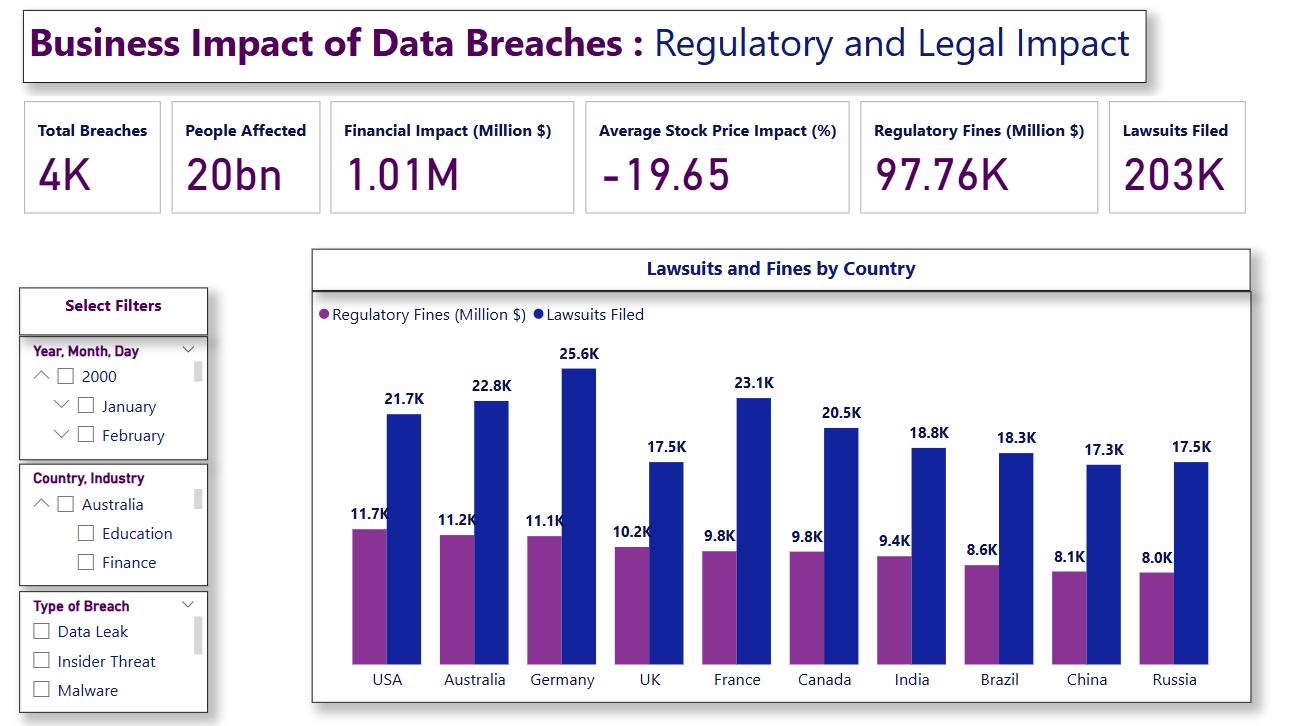

This screenshot's page, from the dashboard's own definition file:
{"tool":"powerbi","page":{"name":"Regulatory & Legal Impact","canvas":[1280,720],"ordinal":3},"visuals":[{"type":"group","id":"g1","title":"Group 1","box":[310,245.4,927.7,448.2],"z":0},{"type":"textbox","box":[310,245.4,927.2,41.9],"z":0,"group":"g1"},{"type":"group","id":"g2","title":"Group 8","box":[20.5,331.9,186.7,371.7],"z":0,"group":"g3"},{"type":"group","id":"g3","title":"Group 9","box":[20.5,284.3,186.7,419.3],"z":1000},{"type":"textbox","box":[20.5,284.3,186.3,47.6],"z":1000,"group":"g3"},{"type":"textbox","box":[25,10.3,1109.4,72],"z":2000},{"type":"clusteredColumnChart","fields":{"Y":["Sum(Sheet1.Regulatory Fines (Million $))","Sum(Sheet1.Lawsuits Filed)"],"Category":["Sheet1.Country"]},"box":[310,287.6,927.7,406],"z":2000,"group":"g1"},{"type":"group","id":"g4","title":"Group 7","box":[20.6,95.5,1216.7,122],"z":3000},{"type":"slicer","fields":{"Values":["Sheet1.Date of Breach.Variation.Date Hierarchy.Year","Sheet1.Date of Breach.Variation.Date Hierarchy.Month","Sheet1.Date of Breach.Variation.Date Hierarchy.Day"]},"box":[20.5,331.9,186.7,122],"z":3000,"group":"g2"},{"type":"slicer","fields":{"Values":["Sheet1.Country","Sheet1.Industry"]},"box":[20.5,457.9,186.4,120.7],"z":4000,"group":"g2"},{"type":"slicer","fields":{"Values":["Sheet1.Type of Breach"]},"box":[20.7,584,186.3,119.7],"z":5000,"group":"g2"},{"type":"cardVisual","fields":{"Data":["Avg(Sheet1.Stock Price Impact (%))"]},"box":[574.6,95.5,271.8,122],"z":6000,"group":"g4"},{"type":"cardVisual","fields":{"Data":["Sheet1.Total Breaches"]},"box":[20.6,95.5,145.5,122],"z":7000,"group":"g4"},{"type":"cardVisual","fields":{"Data":["Sum(Sheet1.Regulatory Fines (Million $))"]},"box":[846.4,95.5,245.4,122],"z":8000,"group":"g4"},{"type":"cardVisual","fields":{"Data":["Sum(Sheet1.Lawsuits Filed)"]},"box":[1091.8,95.5,145.5,122],"z":9000,"group":"g4"},{"type":"cardVisual","fields":{"Data":["Sum(Sheet1.People Affected)"]},"box":[166.1,95.5,157.2,122],"z":10000,"group":"g4"},{"type":"cardVisual","fields":{"Data":["Sum(Sheet1.Financial Impact (Million $))"]},"box":[323.3,95.5,251.3,122],"z":11000,"group":"g4"}]}

Visuals, with their boxes in screenshot pixels (x1, y1, x2, y2), scaled from the page's 1280x720 canvas onto the 1291x726 screenshot:
"Group 1" group: l=313, t=247, r=1248, b=699
textbox: l=313, t=247, r=1248, b=290
"Group 8" group: l=21, t=335, r=209, b=709
"Group 9" group: l=21, t=287, r=209, b=709
textbox: l=21, t=287, r=209, b=335
textbox: l=25, t=10, r=1144, b=83
clusteredColumnChart - Sum(Sheet1.Regulatory Fines (Million $)) x Sum(Sheet1.Lawsuits Filed): l=313, t=290, r=1248, b=699
"Group 7" group: l=21, t=96, r=1248, b=219
slicer - Sheet1.Date of Breach.Variation.Date Hierarchy.Year x Sheet1.Date of Breach.Variation.Date Hierarchy.Month: l=21, t=335, r=209, b=458
slicer - Sheet1.Country x Sheet1.Industry: l=21, t=462, r=209, b=583
slicer - Sheet1.Type of Breach: l=21, t=589, r=209, b=710
cardVisual - Avg(Sheet1.Stock Price Impact (%)): l=580, t=96, r=854, b=219
cardVisual - Sheet1.Total Breaches: l=21, t=96, r=168, b=219
cardVisual - Sum(Sheet1.Regulatory Fines (Million $)): l=854, t=96, r=1101, b=219
cardVisual - Sum(Sheet1.Lawsuits Filed): l=1101, t=96, r=1248, b=219
cardVisual - Sum(Sheet1.People Affected): l=168, t=96, r=326, b=219
cardVisual - Sum(Sheet1.Financial Impact (Million $)): l=326, t=96, r=580, b=219
